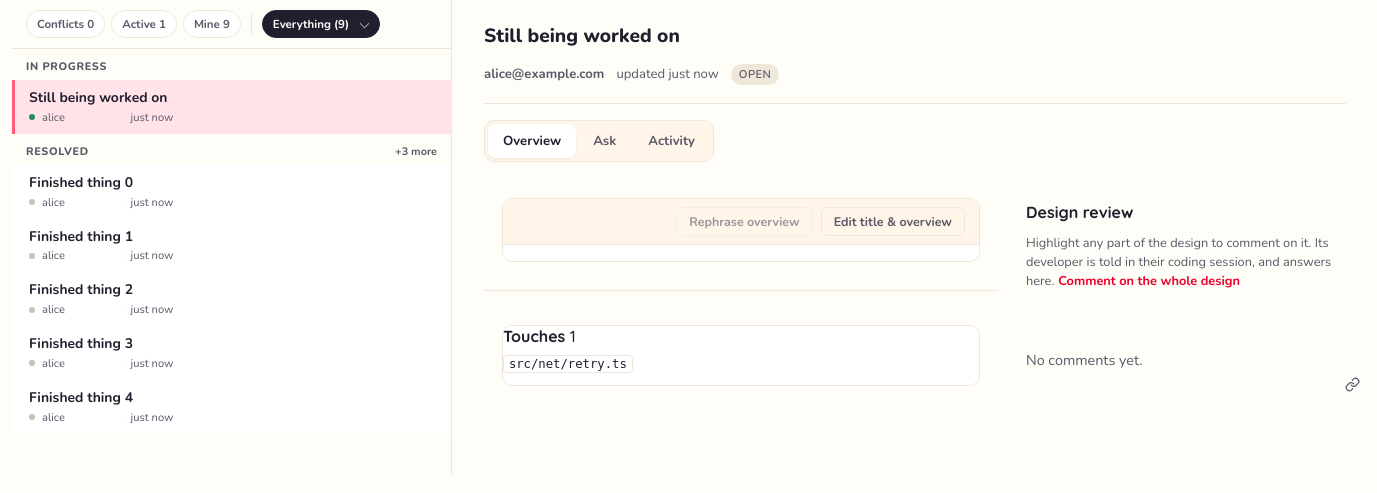
Test: WorkView (desktop baseline) › filtering finished work › drops them when Active is chosen
Expected: the element with class "work-pane-list" shows "Finished thing", [12,165,451,219]
Click the button "Active 1" at coordinates (144, 24), box [111,10,177,38]
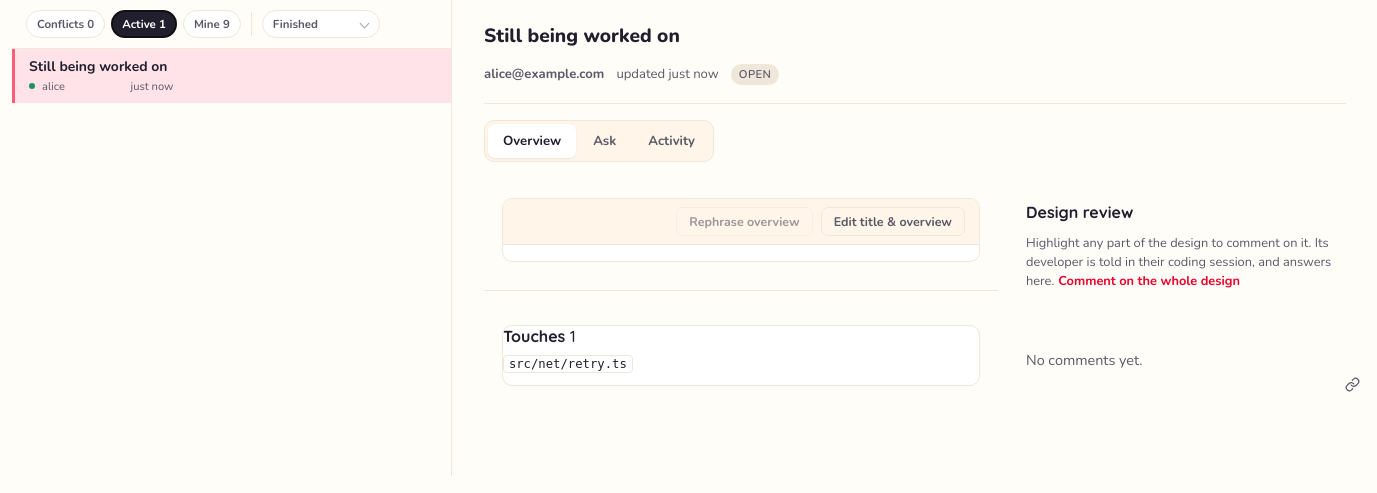
Expected: the element with class "work-pane-list" shows "Still being worked on", [12,49,451,103]
Expected: the element with class "work-pane-list" no longer shows "Finished thing", [12,0,452,476]
